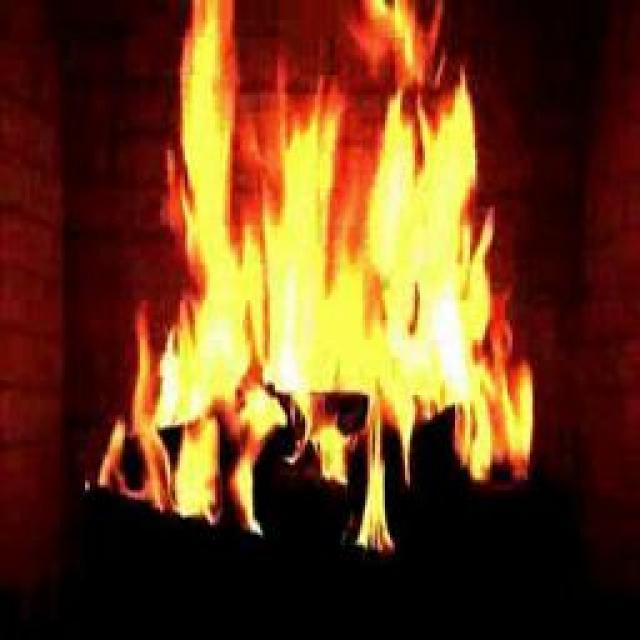Fire: (186, 62, 505, 485)
